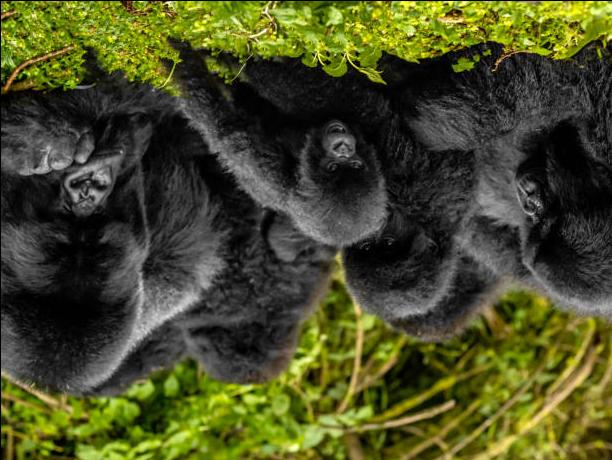goriile_montagne: (0, 42, 204, 390), (170, 43, 416, 240), (460, 28, 612, 321), (300, 214, 454, 338)
